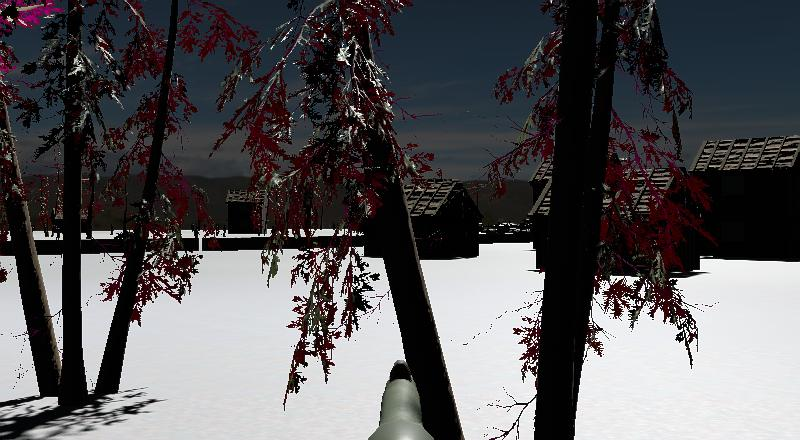House: (677, 112, 800, 280), (390, 166, 492, 279)
